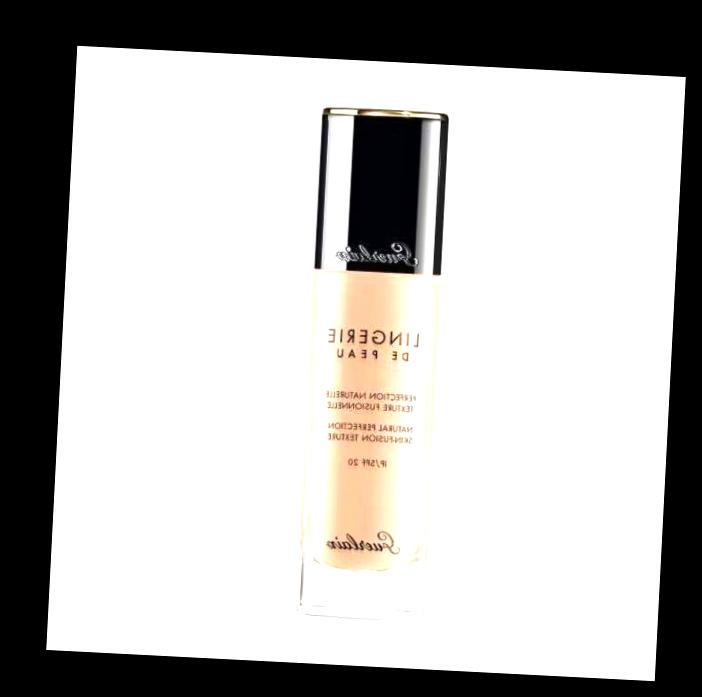cosmetic: (292, 104, 449, 618)
